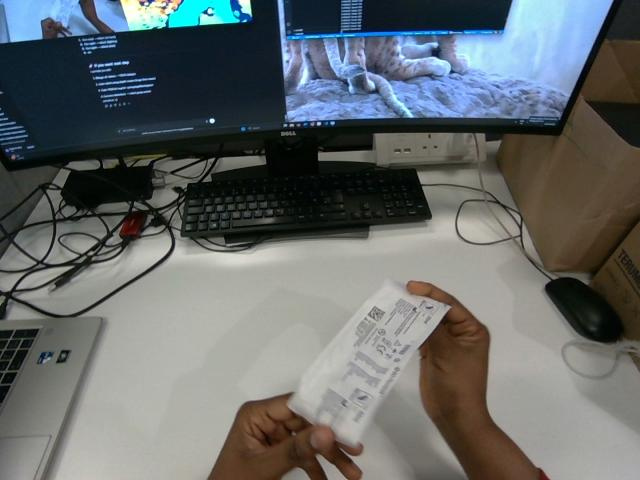syringe: (288, 280, 449, 446)
